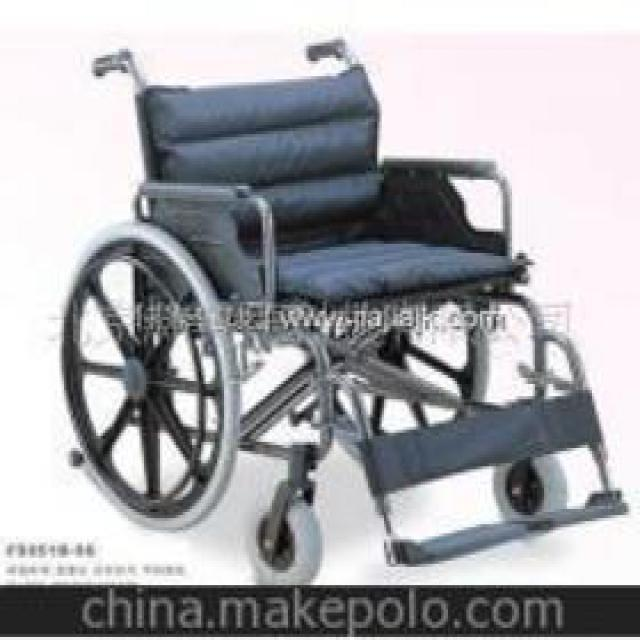wheelchairs: (63, 47, 627, 573)
